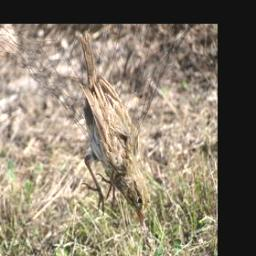Sparrow: (76, 27, 149, 229)
